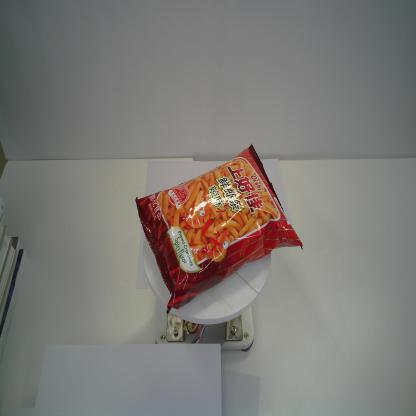Puffed Food: (135, 142, 304, 314)
